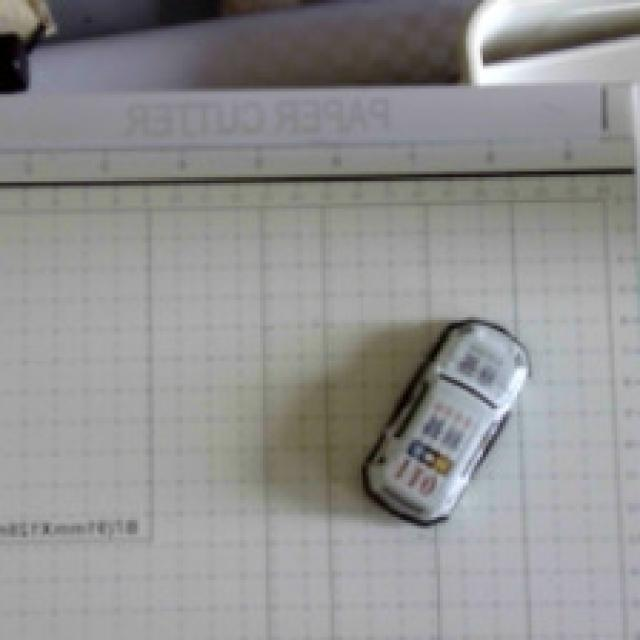Grey Car: (314, 298, 557, 556)
